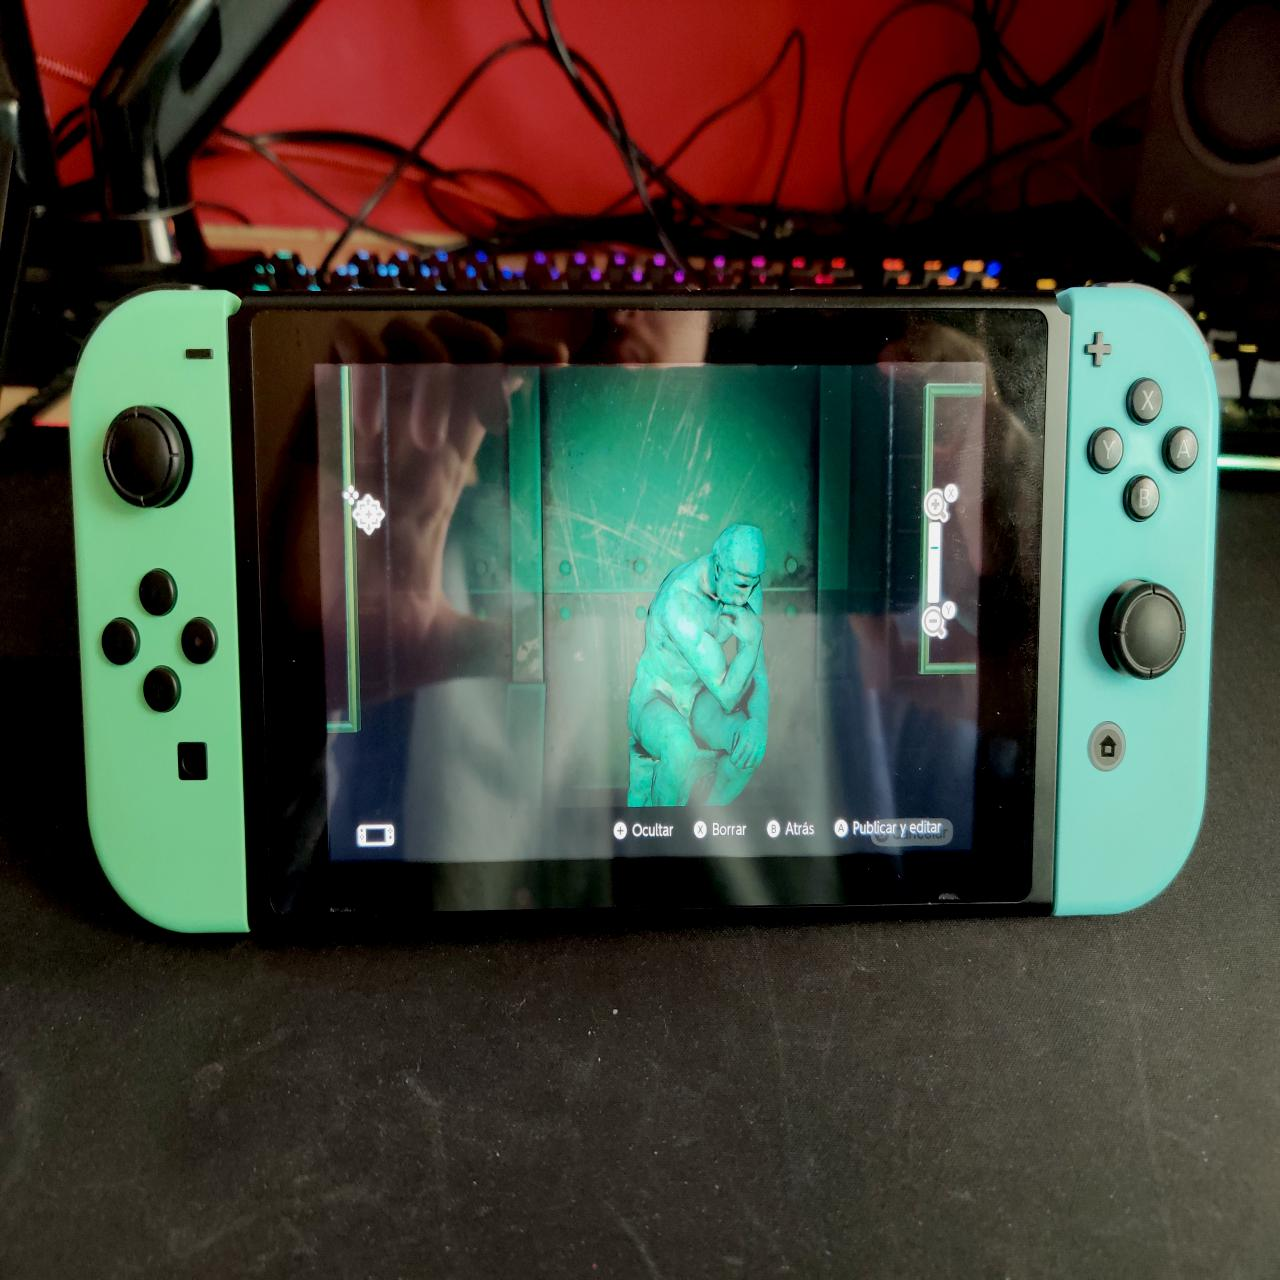Thinker: (622, 525, 776, 808)
